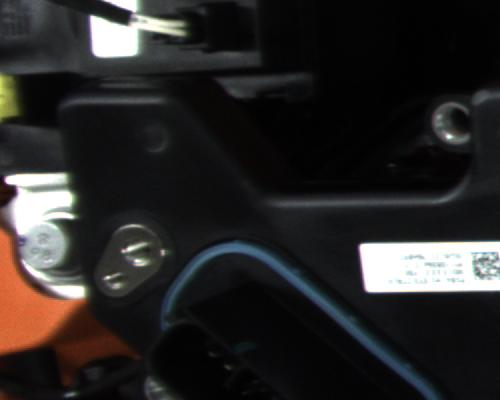nut_b: (15, 208, 82, 288)
